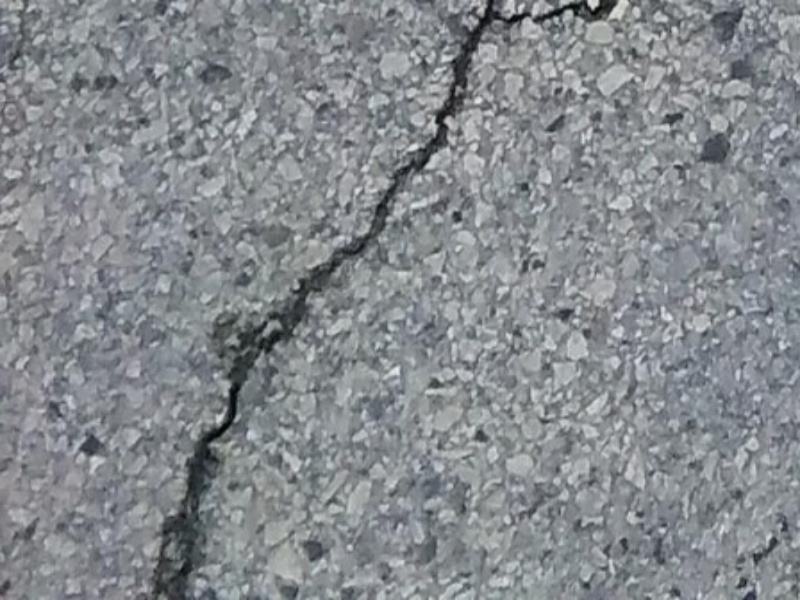crack: (137, 13, 591, 589)
